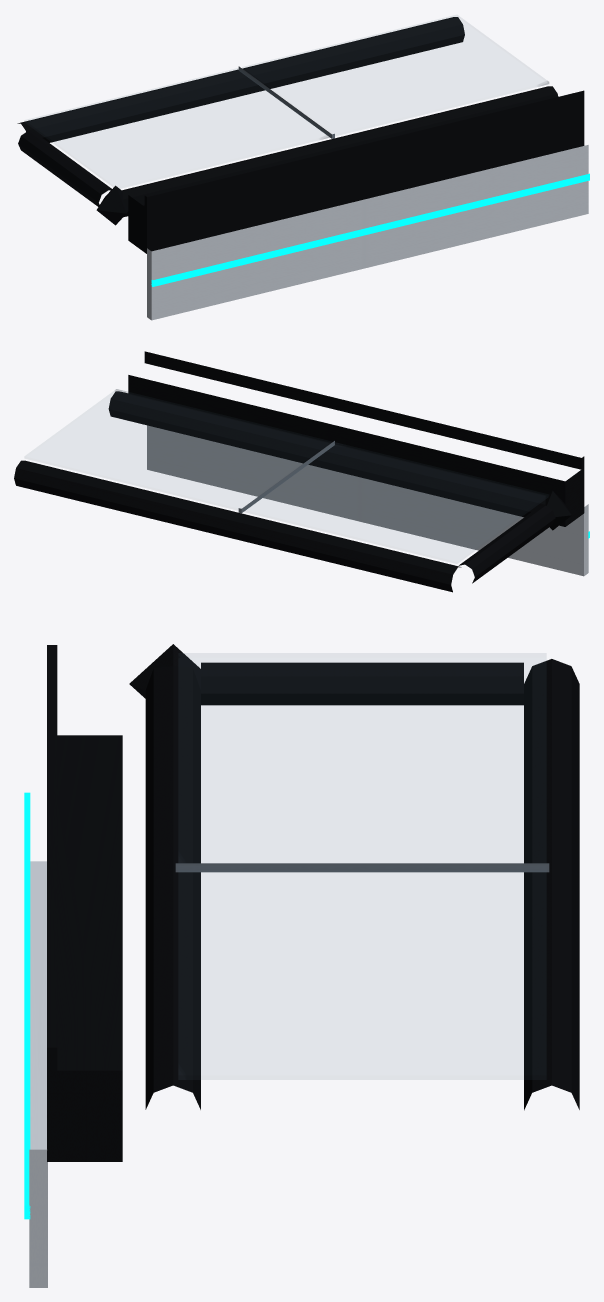
Rendered from tt_struct_roof_closure_chord.glb.
The picture shows the model from 3 angles, top to bottom: view 1: azimuth 30°, elevation 25°; view 2: azimuth 150°, elevation 25°; view 3: azimuth 270°, elevation 25°; orthographic projection. The views are drawn at different scales.
Visible parts, largest first — view 1: Fascia, Gutter, Closure_Frame, Edge_LED, Glazing_Bar; view 2: Closure_Frame, Fascia, Gutter, Glazing_Bar; view 3: Closure_Frame, Gutter, Fascia, Glazing_Bar, Edge_LED.
Part boxes in pixels (x1,y1,x2,y2): Fascia: (147, 145, 588, 320); Gutter: (128, 90, 584, 253); Closure_Frame: (17, 17, 558, 225); Edge_LED: (151, 173, 589, 286); Glazing_Bar: (238, 66, 334, 138); Closure_Frame: (14, 391, 571, 592); Fascia: (147, 425, 588, 576); Gutter: (128, 351, 584, 526); Glazing_Bar: (238, 441, 334, 513); Closure_Frame: (129, 644, 579, 1110); Gutter: (47, 645, 122, 1161); Fascia: (29, 861, 47, 1287); Glazing_Bar: (175, 863, 549, 872); Edge_LED: (24, 792, 30, 1219).
Bounding box in the file's own units: 4.18 × 1.05 × 2.2.
5 materials, 4 textured.
